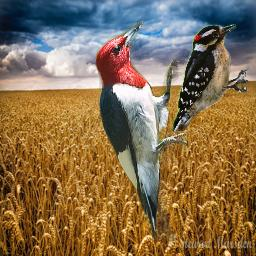Woodpecker: (94, 21, 187, 241), (172, 24, 249, 131)
